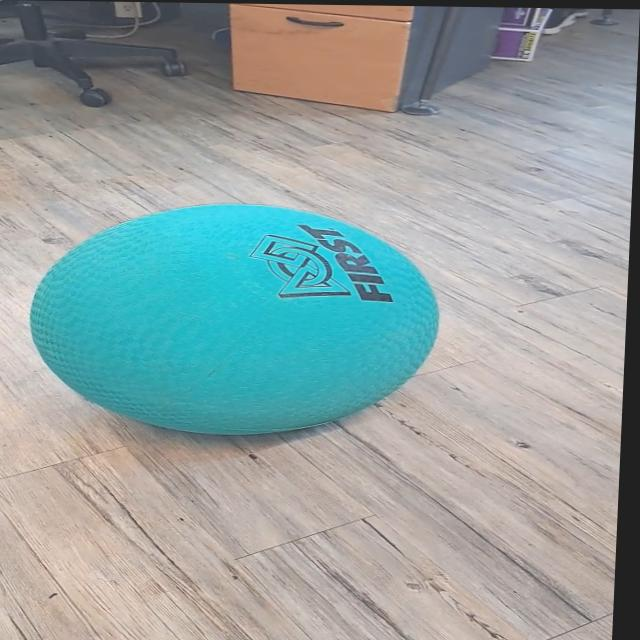ALGAE: (21, 199, 446, 439)
